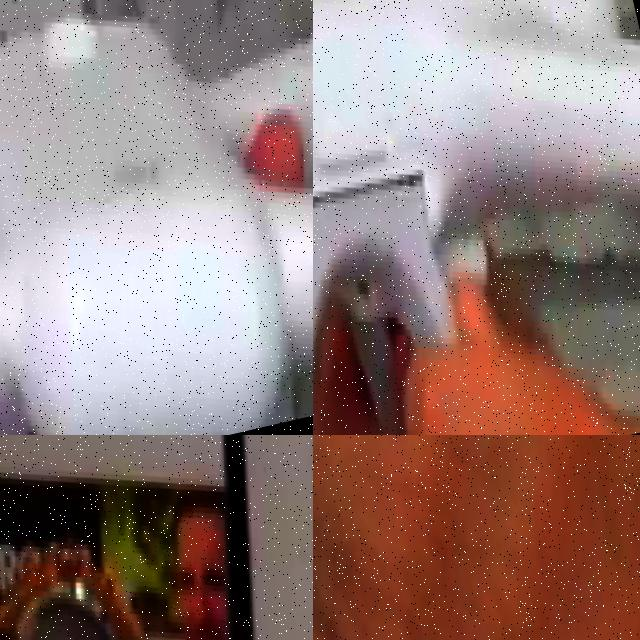drone: (313, 0, 640, 435), (0, 0, 313, 435), (313, 435, 640, 640), (0, 435, 313, 640)
